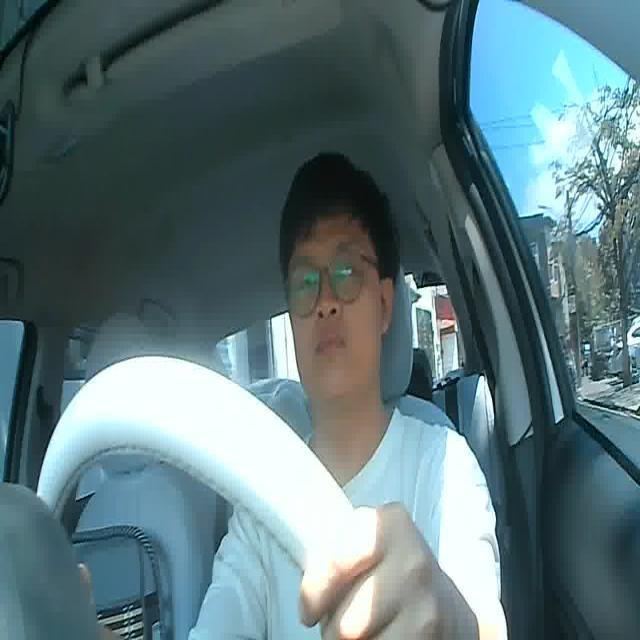Attentive: (274, 146, 400, 396)
Eye-Open: (296, 271, 320, 294), (337, 261, 360, 284)
Normal: (318, 326, 349, 358)
